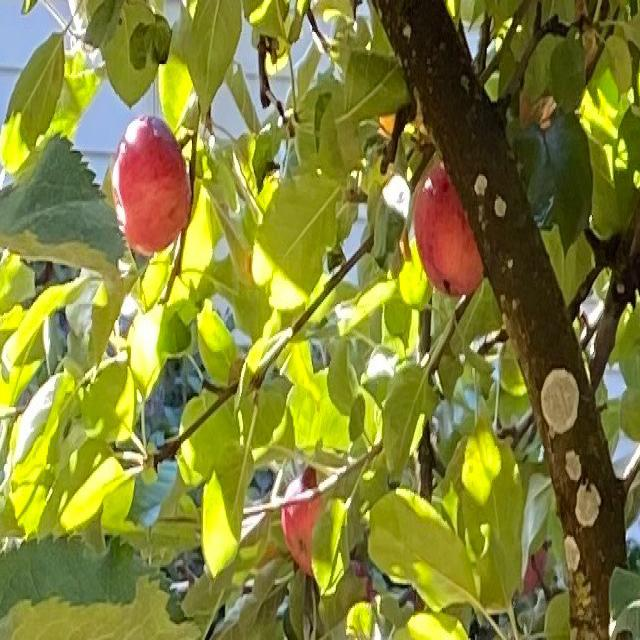Apples: (113, 116, 192, 254), (417, 162, 487, 292), (283, 468, 333, 576)
